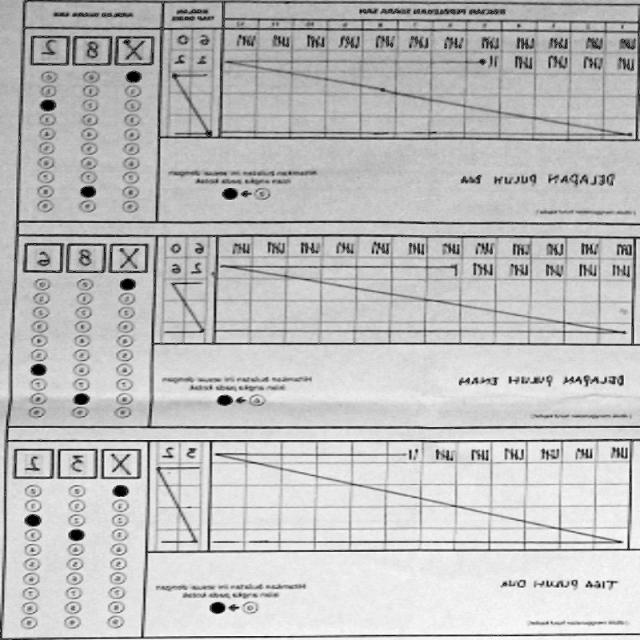Suara: (12, 444, 146, 482), (26, 31, 159, 68), (22, 238, 156, 274)
